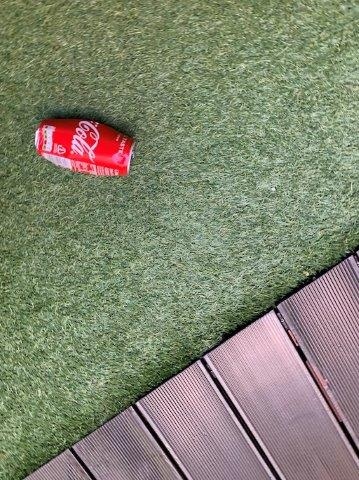kaleng: (35, 120, 134, 176)
